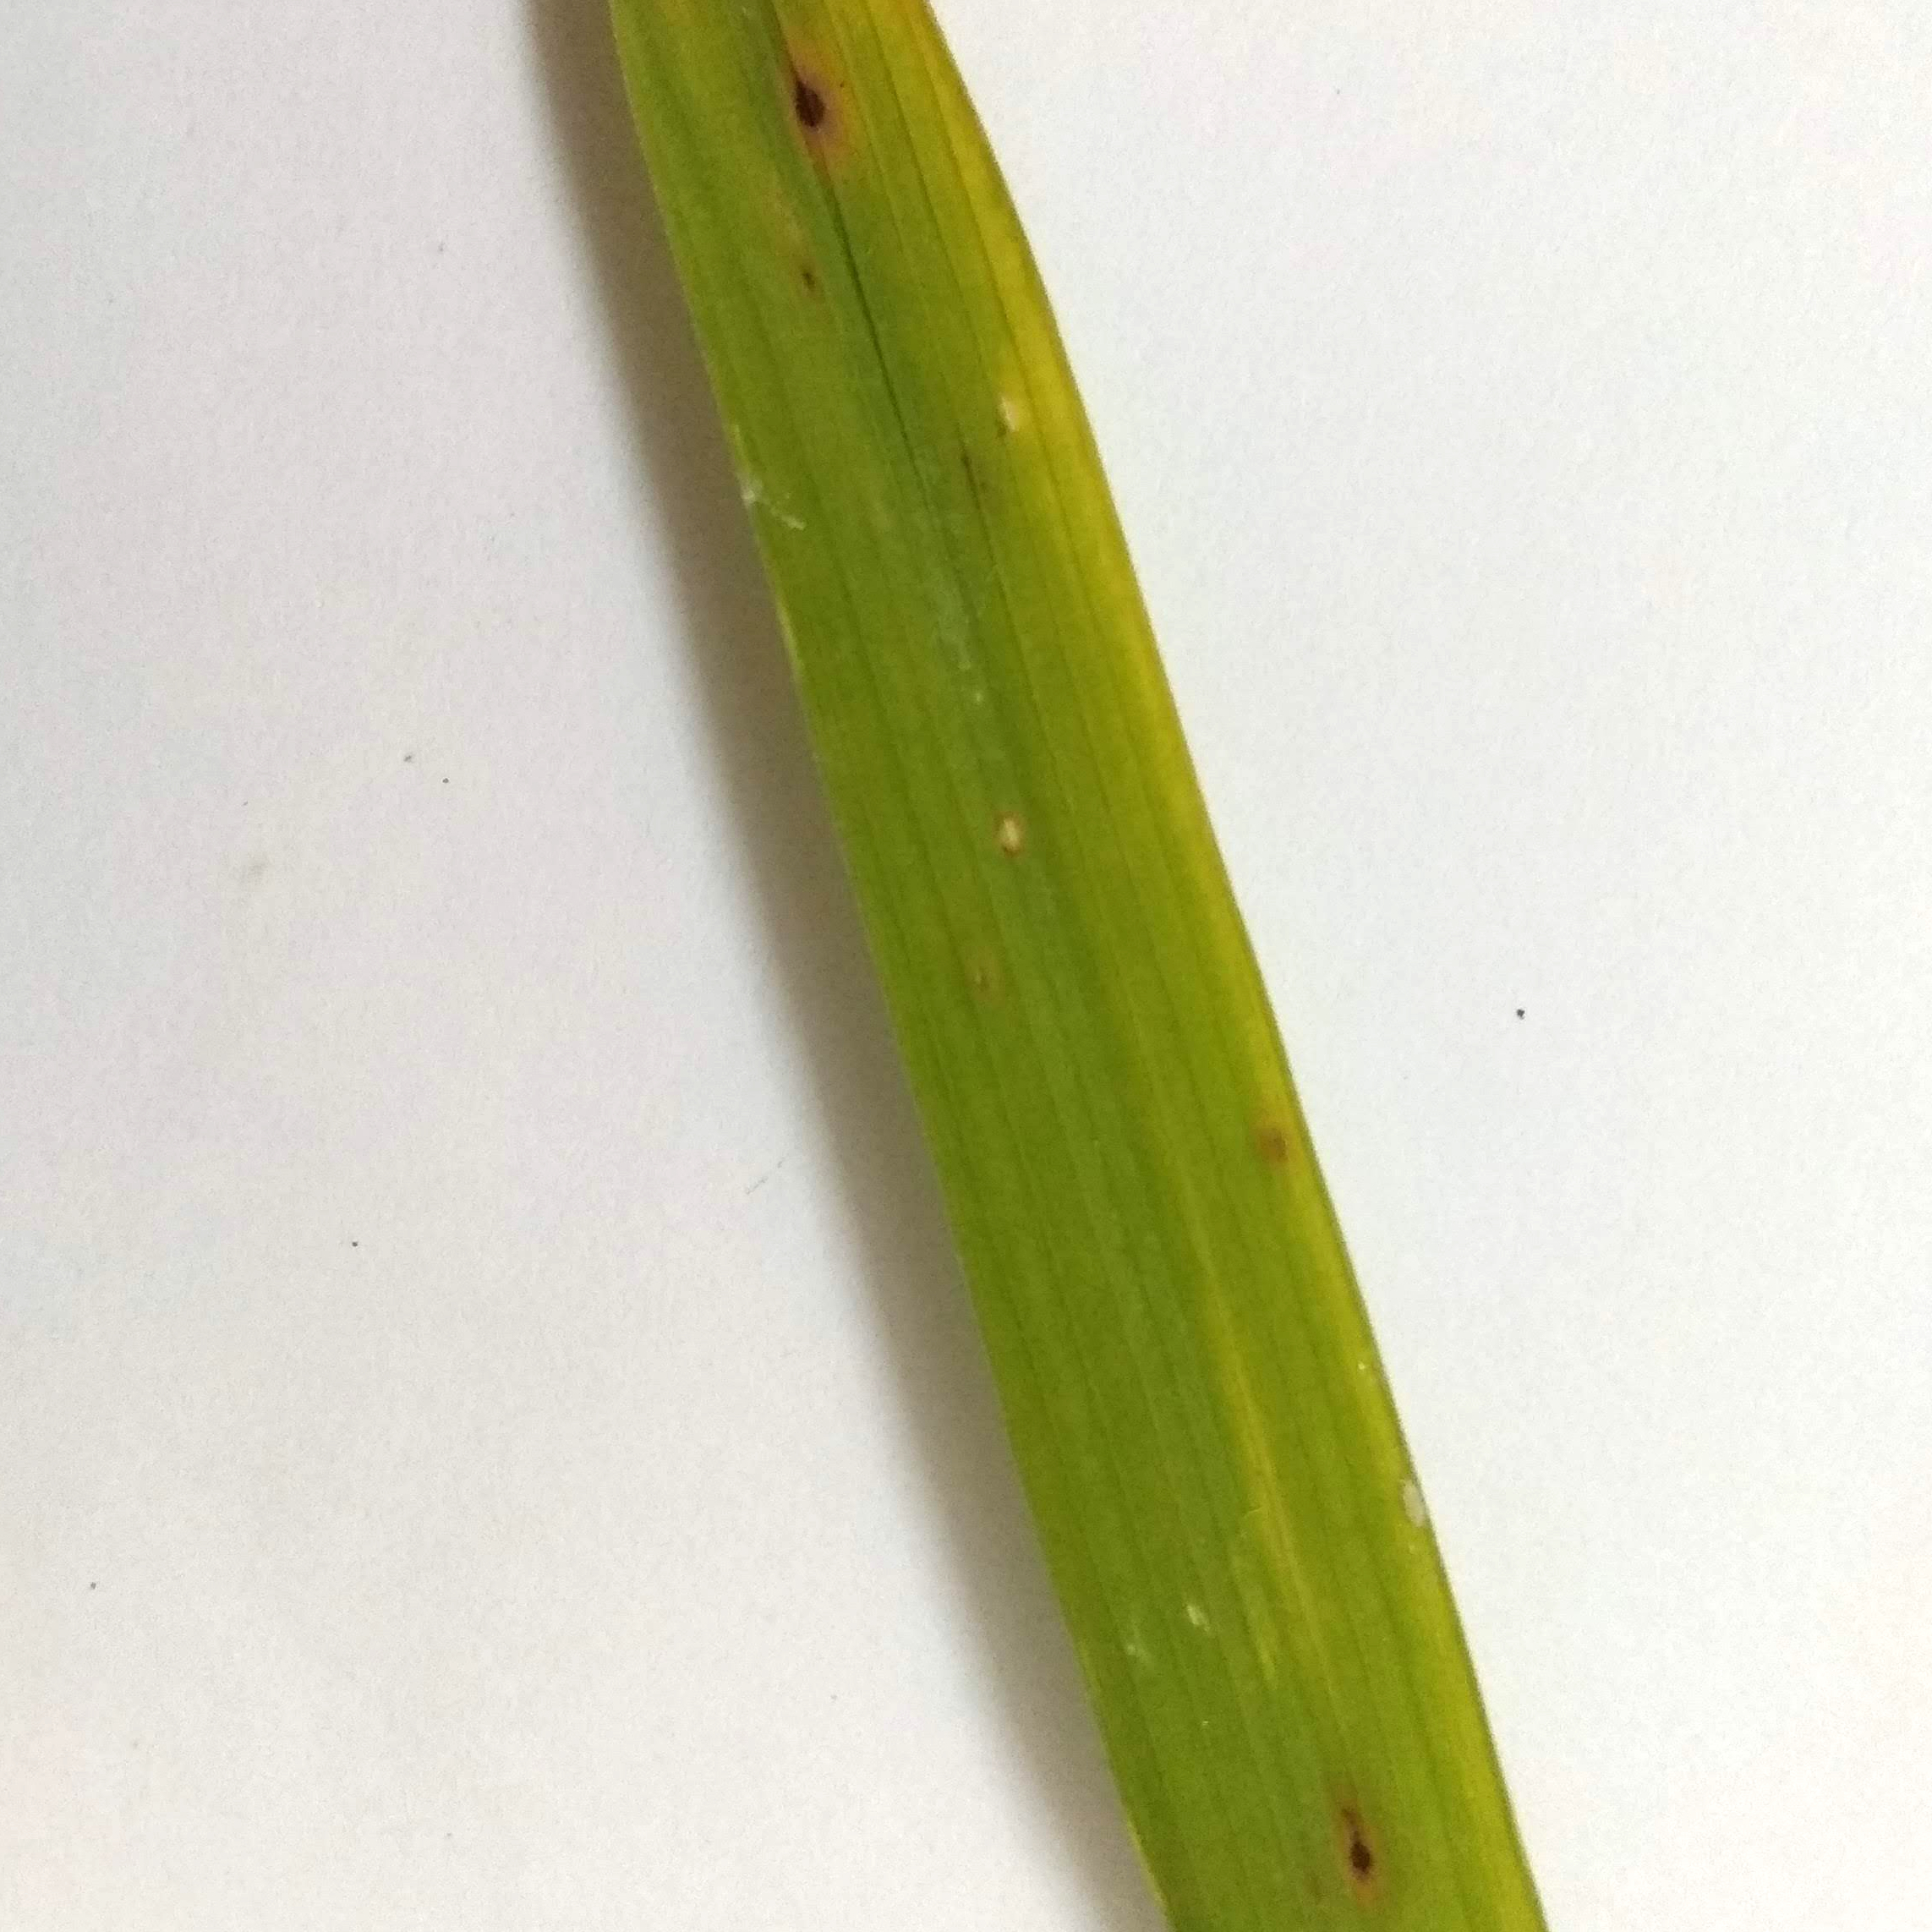brown spot: (1308, 1770, 1393, 1902), (769, 40, 854, 158), (1255, 1108, 1314, 1184), (781, 245, 835, 315), (950, 440, 995, 513), (989, 806, 1029, 862)
